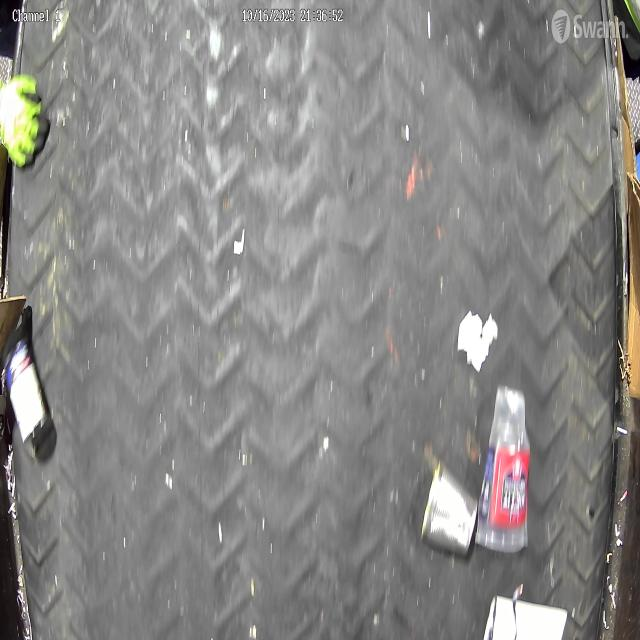can: (421, 458, 478, 559), (2, 336, 48, 445)
